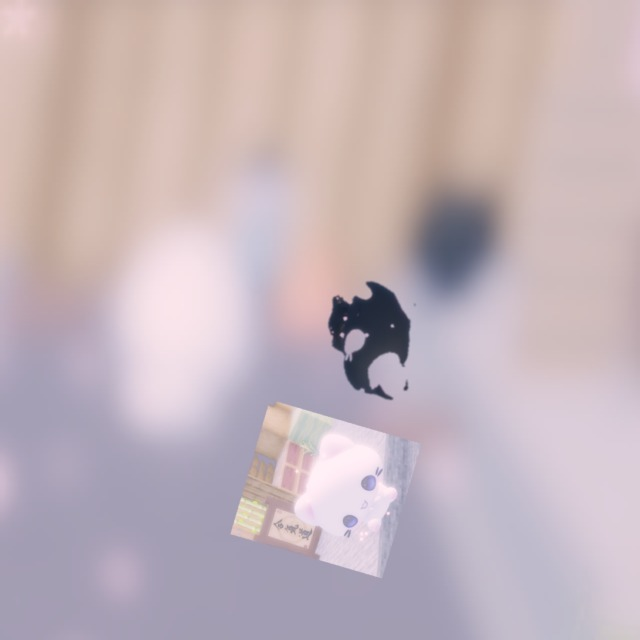urso_branco: (230, 399, 422, 579)
urso_preto: (314, 260, 431, 420)
